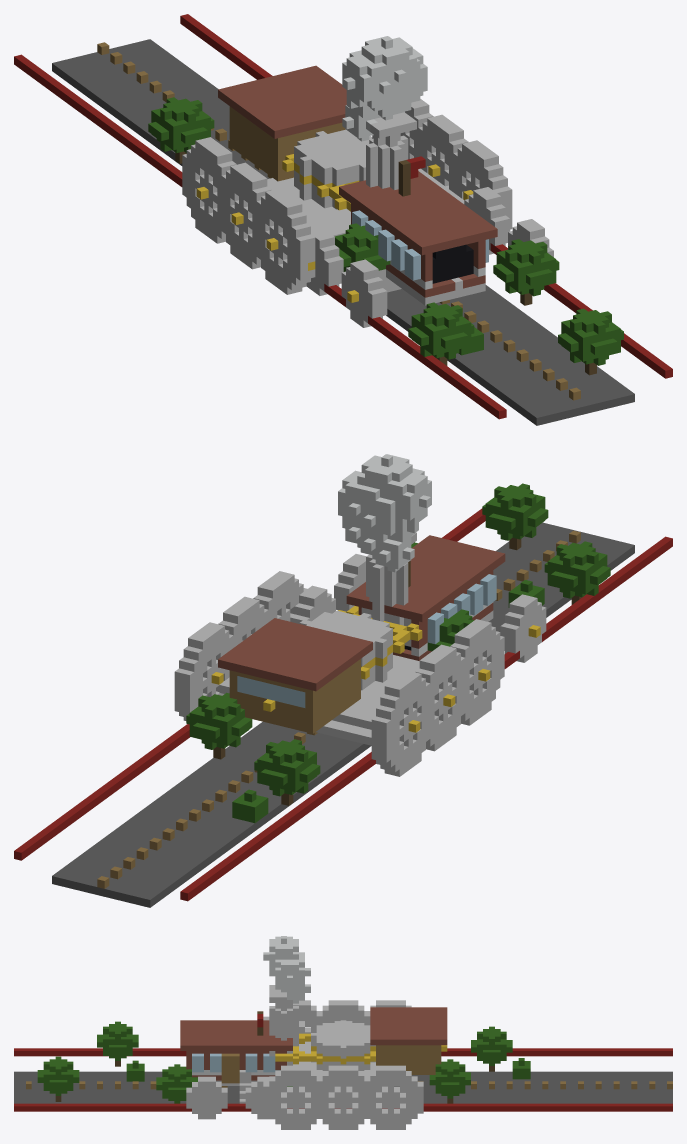
3 renders of one model, top to bottom at view 1: azimuth 30°, elevation 25°; view 2: azimuth 150°, elevation 25°; view 3: azimuth 270°, elevation 25°, orthographic. The views are drawn at different scales.
Size of the model in its own units: 29 by 29 by 111.
